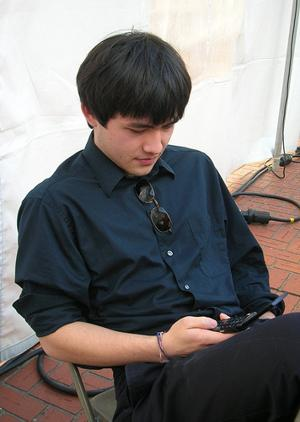person: (15, 30, 300, 420)
